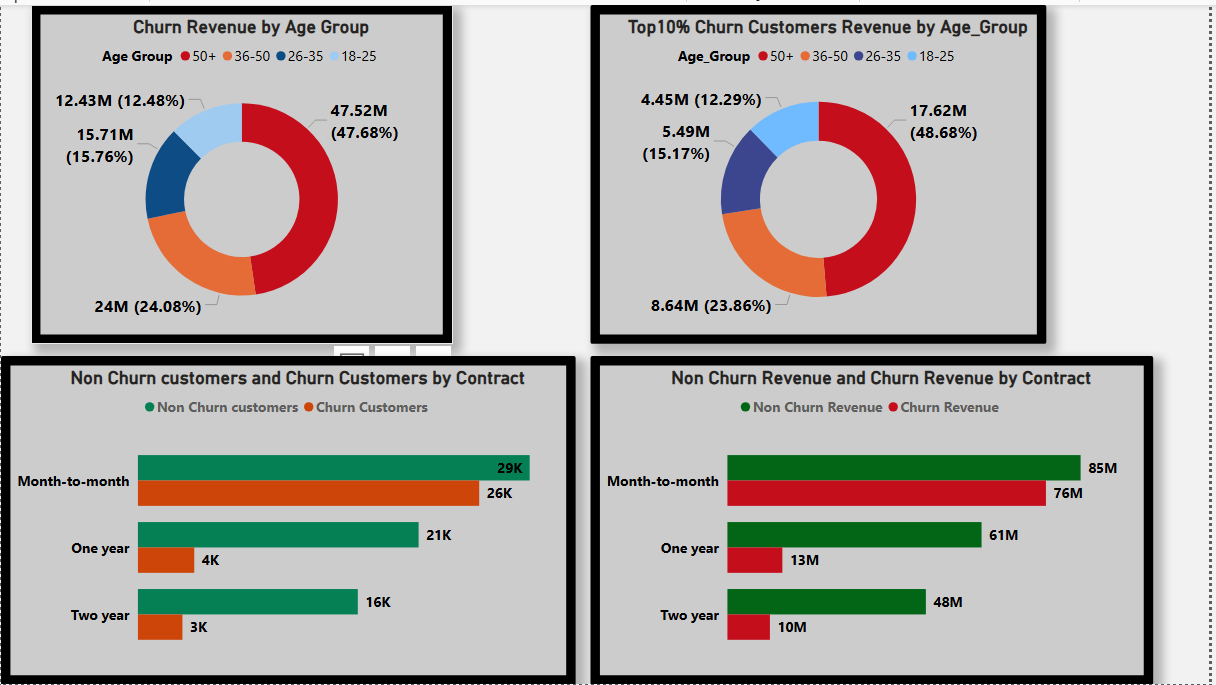

The page's visual inventory and layout, read from the dashboard file:
{"tool":"powerbi","page":{"name":"Churn Impact","canvas":[1280,720],"ordinal":1},"visuals":[{"type":"donutChart","fields":{"Category":["telecome telecom_churn.Age Group"],"Y":["telecome telecom_churn.Churn Revenue"]},"box":[31.8,0,447,359.5],"z":0},{"type":"donutChart","title":"Top10% Churn Customers Revenue by Age_Group","fields":{"Category":["telecome top_10_per_churn.Age_Group"],"Y":["telecome top_10_per_churn.Churn_Revenue"]},"box":[625.1,0,483.5,359.5],"z":1000},{"type":"clusteredBarChart","fields":{"Category":["telecome telecom_churn.Contract"],"Y":["telecome telecom_churn.Non Churn customers","telecome telecom_churn.Churn Customers"]},"box":[0,372.2,609.2,348.3],"z":2000},{"type":"clusteredBarChart","fields":{"Category":["telecome telecom_churn.Contract"],"Y":["telecome telecom_churn.Non Churn Revenue","telecome telecom_churn.Churn Revenue"]},"box":[625.1,372.2,596.5,348.3],"z":2001}]}

Visuals, with their boxes in screenshot pixels (x1, y1, x2, y2), scaled from the page's 1280x720 canvas onto the 1216x685 screenshot:
donutChart - telecome telecom_churn.Age Group x telecome telecom_churn.Churn Revenue: (x1=30, y1=0, x2=455, y2=342)
"Top10% Churn Customers Revenue by Age_Group" donutChart: (x1=594, y1=0, x2=1053, y2=342)
clusteredBarChart - telecome telecom_churn.Contract x telecome telecom_churn.Non Churn customers: (x1=0, y1=354, x2=579, y2=684)
clusteredBarChart - telecome telecom_churn.Contract x telecome telecom_churn.Non Churn Revenue: (x1=594, y1=354, x2=1161, y2=684)
